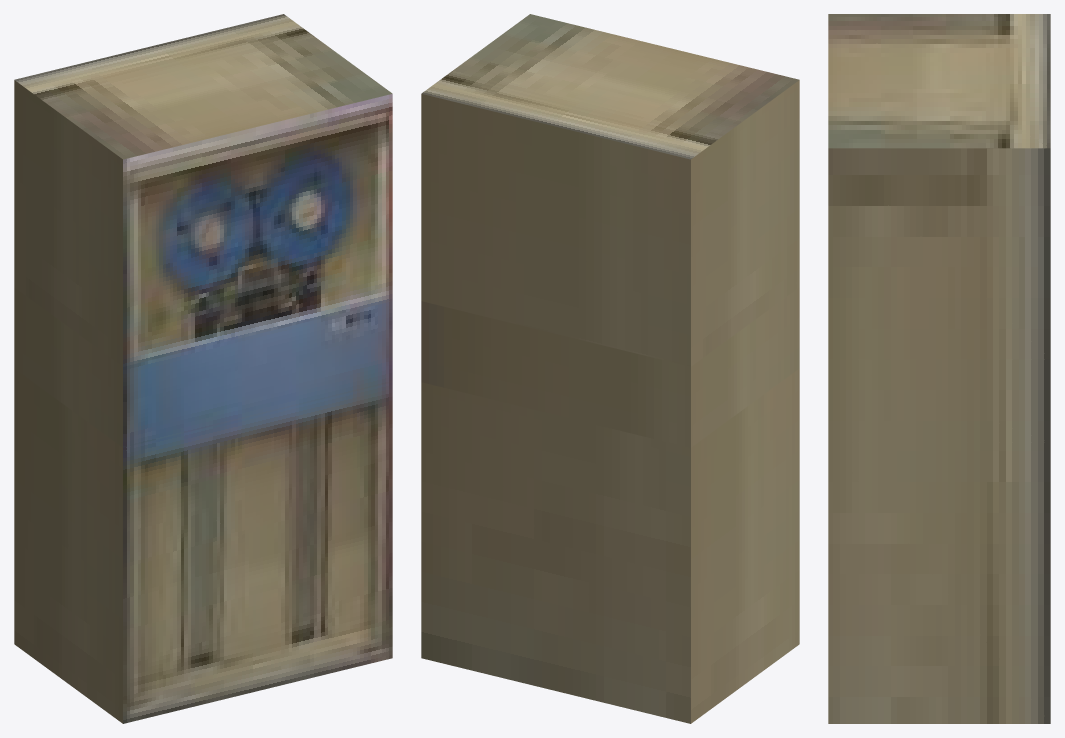
File: server.glb
3 views of the same model, side by side, from view 1: azimuth 30°, elevation 25°; view 2: azimuth 150°, elevation 25°; view 3: azimuth 270°, elevation 25° (orthographic). The views are drawn at different scales.
Parts seen in each view (by area): view 1: Cube; view 2: Cube; view 3: Cube.
Boxes of the visible parts, x1=… form: Cube: x1=14, y1=14, x2=392, y2=723; Cube: x1=421, y1=14, x2=799, y2=723; Cube: x1=828, y1=14, x2=1050, y2=723.
Size of the model in its own units: 2 by 4 by 1.4.
1 material, 1 textured.
